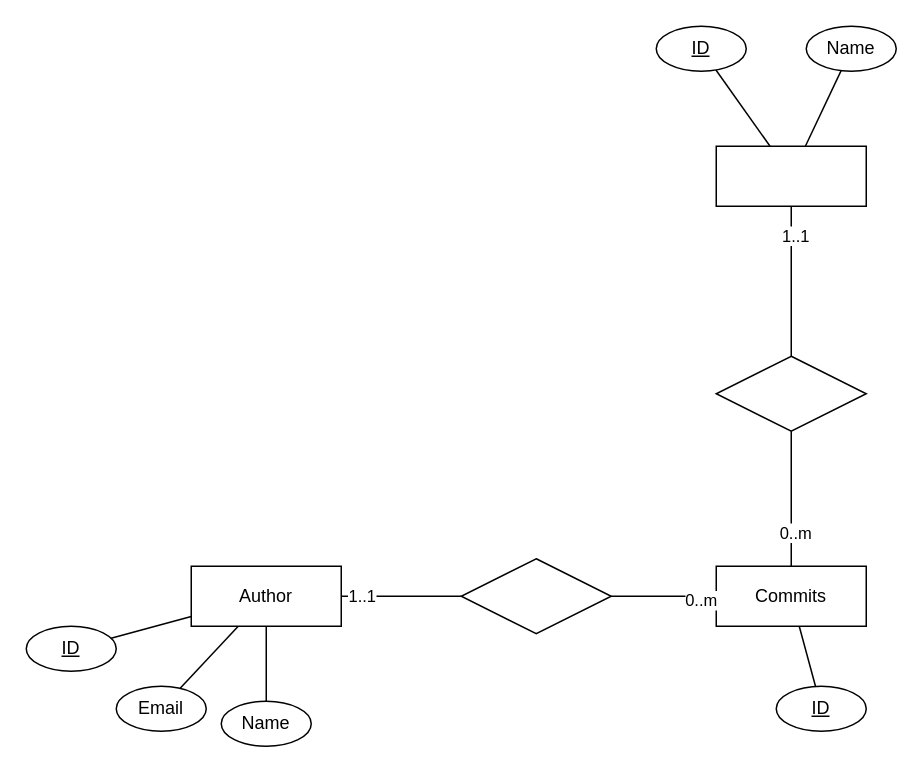
The diagram is 923 pixels wide and 773 high, and some of its shapes have lost their labels. The box of each missing label's shape, as (x1, y1, x2, y2) in pixels:
Belongs: (715, 355, 866, 431)
Makes: (460, 557, 611, 634)
Repo: (715, 145, 866, 206)
